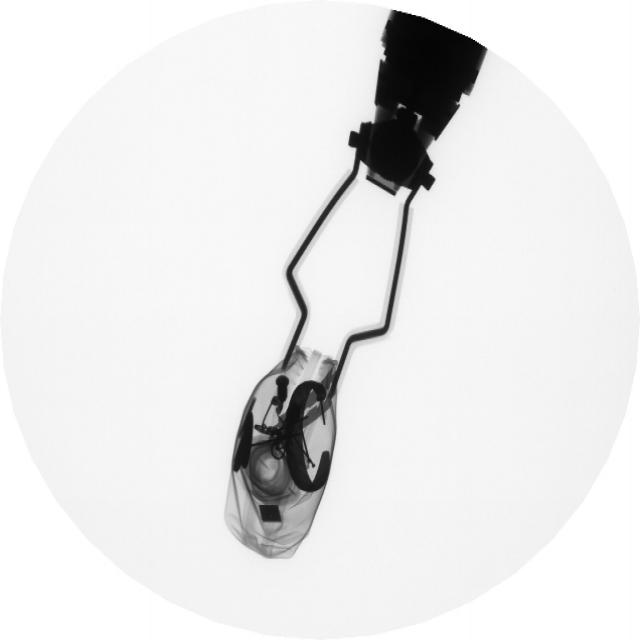BLADE: (289, 379, 333, 431)
